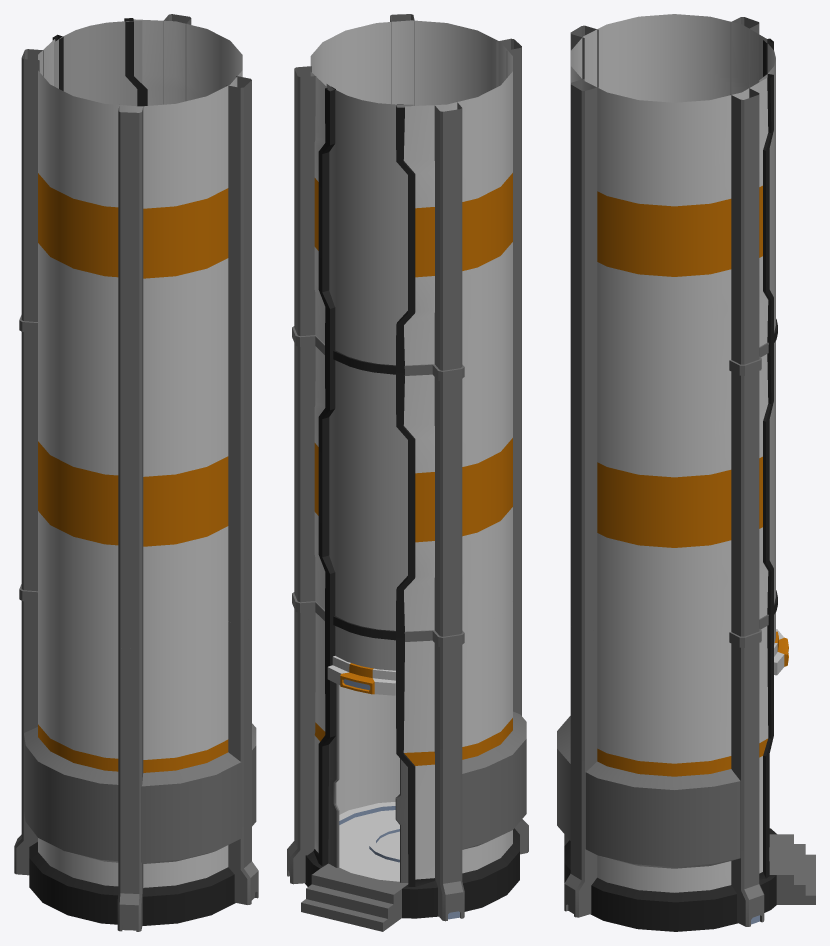
Rendered from lift_lv01_a.fbx.
The picture shows the model from 3 angles, left to right: view 1: azimuth 30°, elevation 25°; view 2: azimuth 150°, elevation 25°; view 3: azimuth 270°, elevation 25°; orthographic projection. The views are drawn at different scales.
Visible parts, largest first — view 1: SmartCombine_39; view 2: SmartCombine_39; view 3: SmartCombine_39.
Boxes of the visible parts, box(x1,y1,x2,y2) form: SmartCombine_39: box(14, 14, 258, 931); SmartCombine_39: box(287, 14, 528, 931); SmartCombine_39: box(557, 14, 815, 931).
Bounding box in the file's own units: 474 × 1812 × 514.
